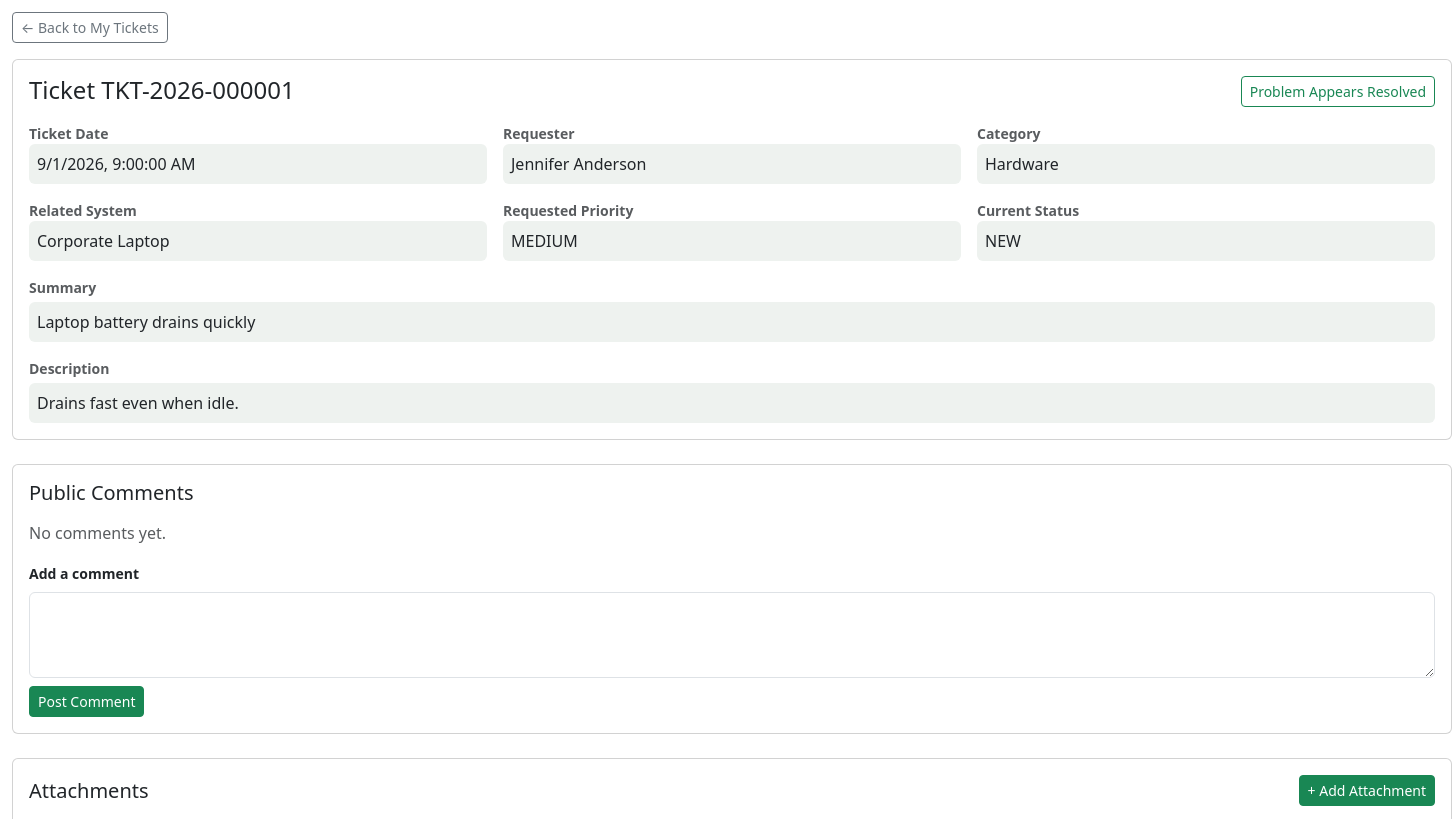
TicketDetail › posts a Public Comment and shows it in the list
Expected: the heading "Ticket TKT-2026-000001" is shown, [29,76,295,105]
Type "Still happening today." into the text box labelled "Add a comment". click: {"x": 732, "y": 635}
box: [29,592,1435,678]
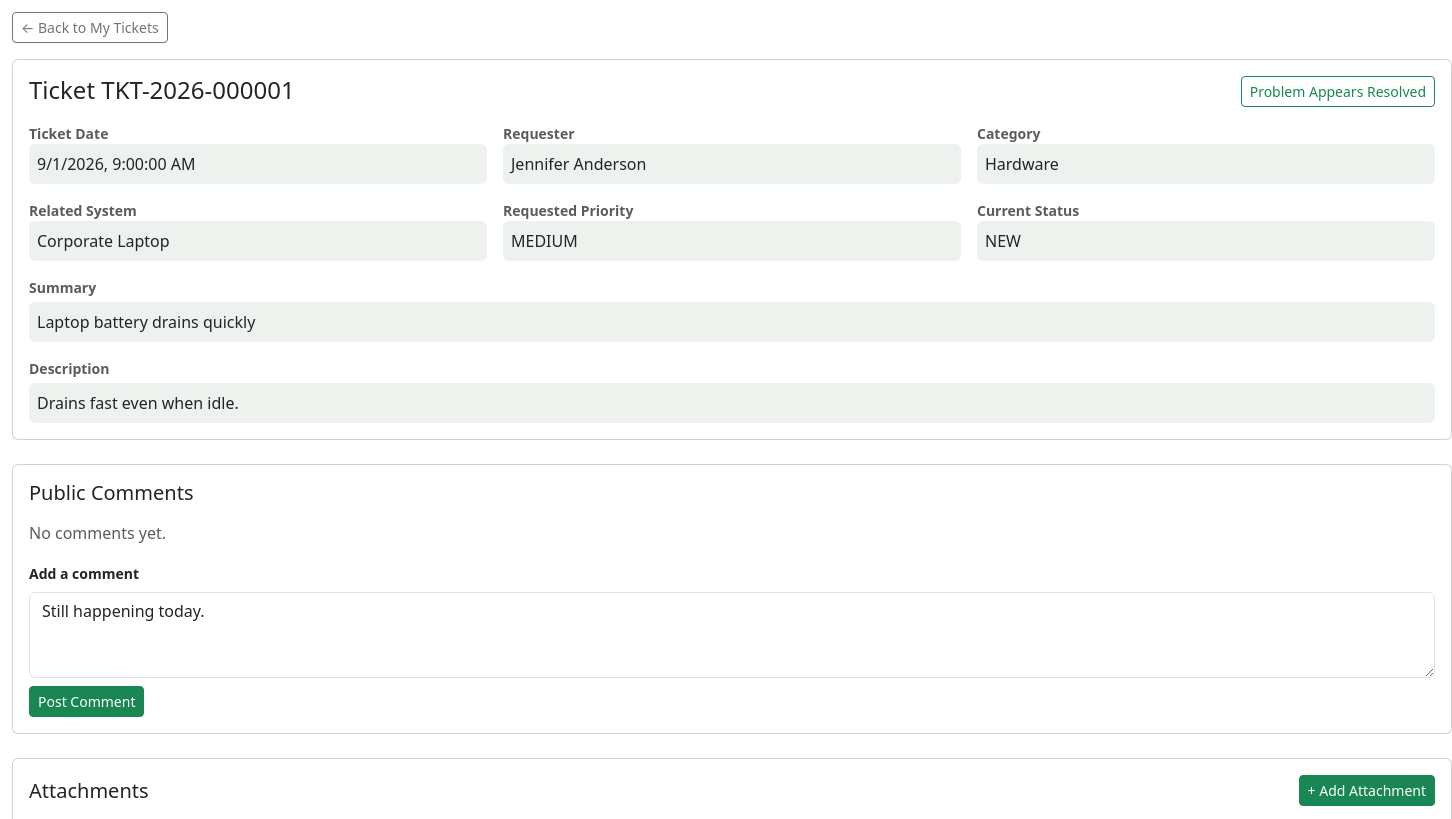
Click the button "Post Comment". click: {"x": 87, "y": 702}
box: [29,686,144,717]
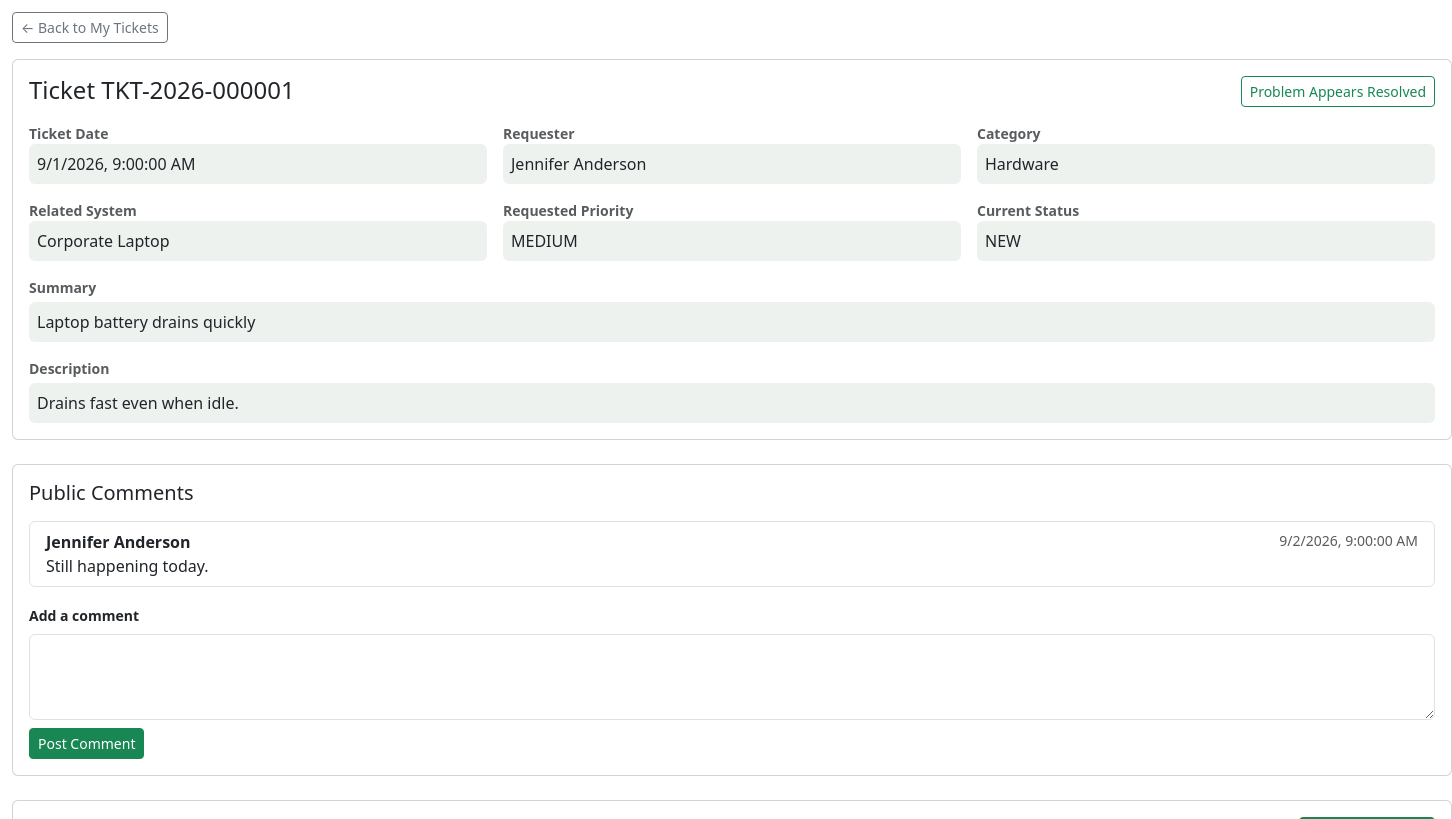
Result: the text "Still happening today." is shown at [46,555,209,577]
